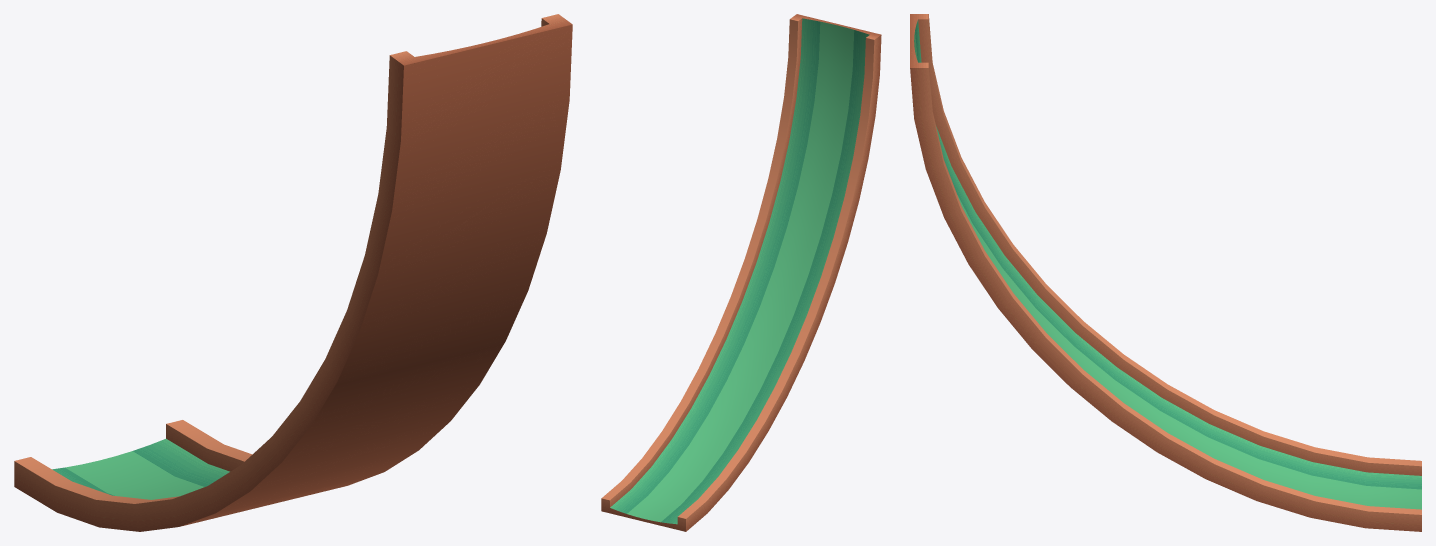
Rendered from spline-concave-straight-bend-large.glb.
3 views of the same model, side by side, from view 1: azimuth 30°, elevation 25°; view 2: azimuth 150°, elevation 25°; view 3: azimuth 270°, elevation 25° (orthographic). The views are drawn at different scales.
Visible parts, largest first — view 1: spline-concave-straight-bend-large; view 2: spline-concave-straight-bend-large; view 3: spline-concave-straight-bend-large.
Part boxes in pixels (x1,y1,x2,y2): spline-concave-straight-bend-large: [14, 14, 572, 531]; spline-concave-straight-bend-large: [601, 14, 881, 531]; spline-concave-straight-bend-large: [910, 14, 1421, 531].
Size of the model in its own units: 0.9999 by 4 by 4.
1 material, 1 textured.
